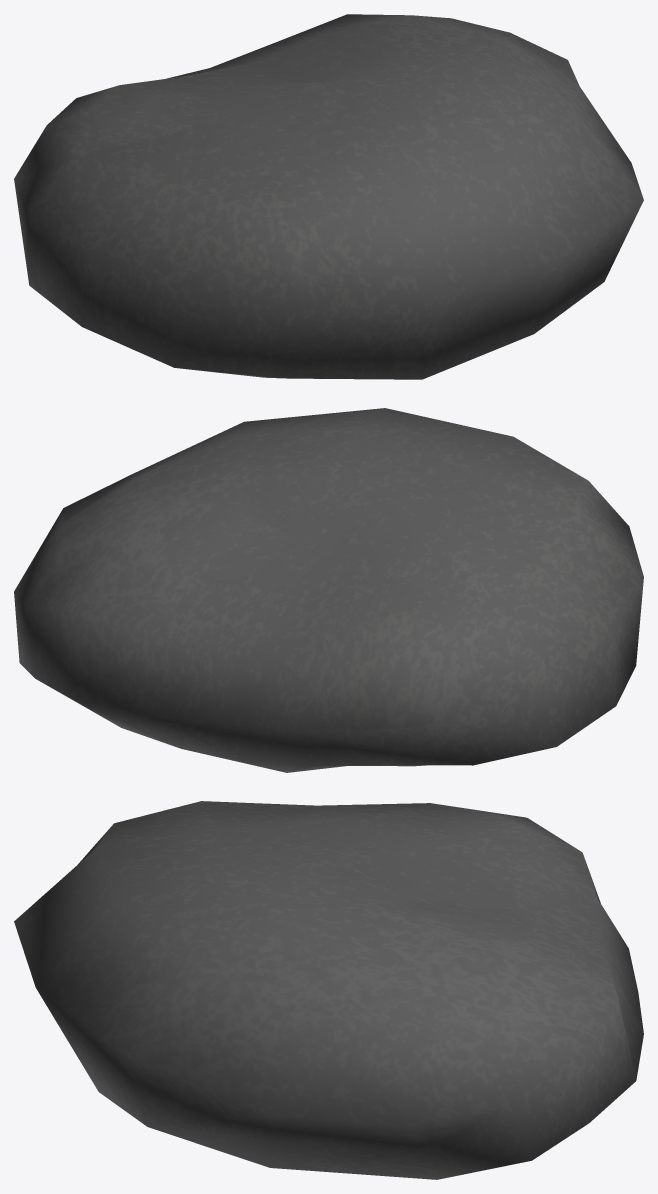
Rendered from Rock3.fbx.
The picture shows the model from 3 angles, top to bottom: view 1: azimuth 30°, elevation 25°; view 2: azimuth 150°, elevation 25°; view 3: azimuth 270°, elevation 25°; orthographic projection. The views are drawn at different scales.
Visible parts, largest first — view 1: SM_Flat_Rock_01:Mesh; view 2: SM_Flat_Rock_01:Mesh; view 3: SM_Flat_Rock_01:Mesh.
Part boxes in pixels (x1,y1,x2,y2): SM_Flat_Rock_01:Mesh: [14, 14, 643, 379]; SM_Flat_Rock_01:Mesh: [14, 408, 643, 772]; SM_Flat_Rock_01:Mesh: [14, 801, 643, 1179].
Size of the model in its own units: 23.53 by 10.15 by 22.32.
1 material, 1 textured.
